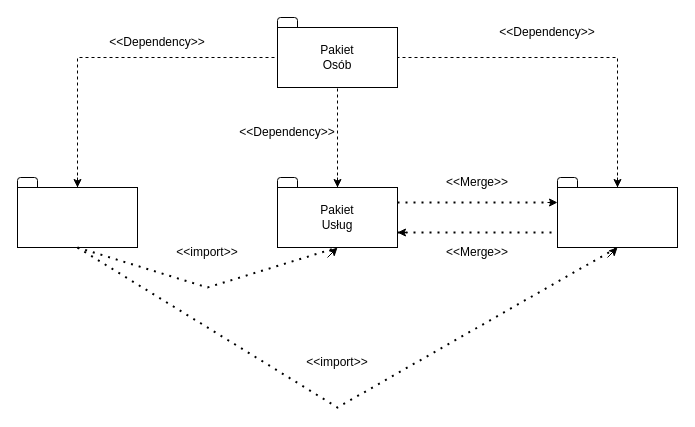
This 695x427 diagram has some shape labels left out. Each missing label, with the centre of its shape:
"Pakiet Lokacji" goes at (77,217).
"Pakiet Produktów" goes at (617,217).
